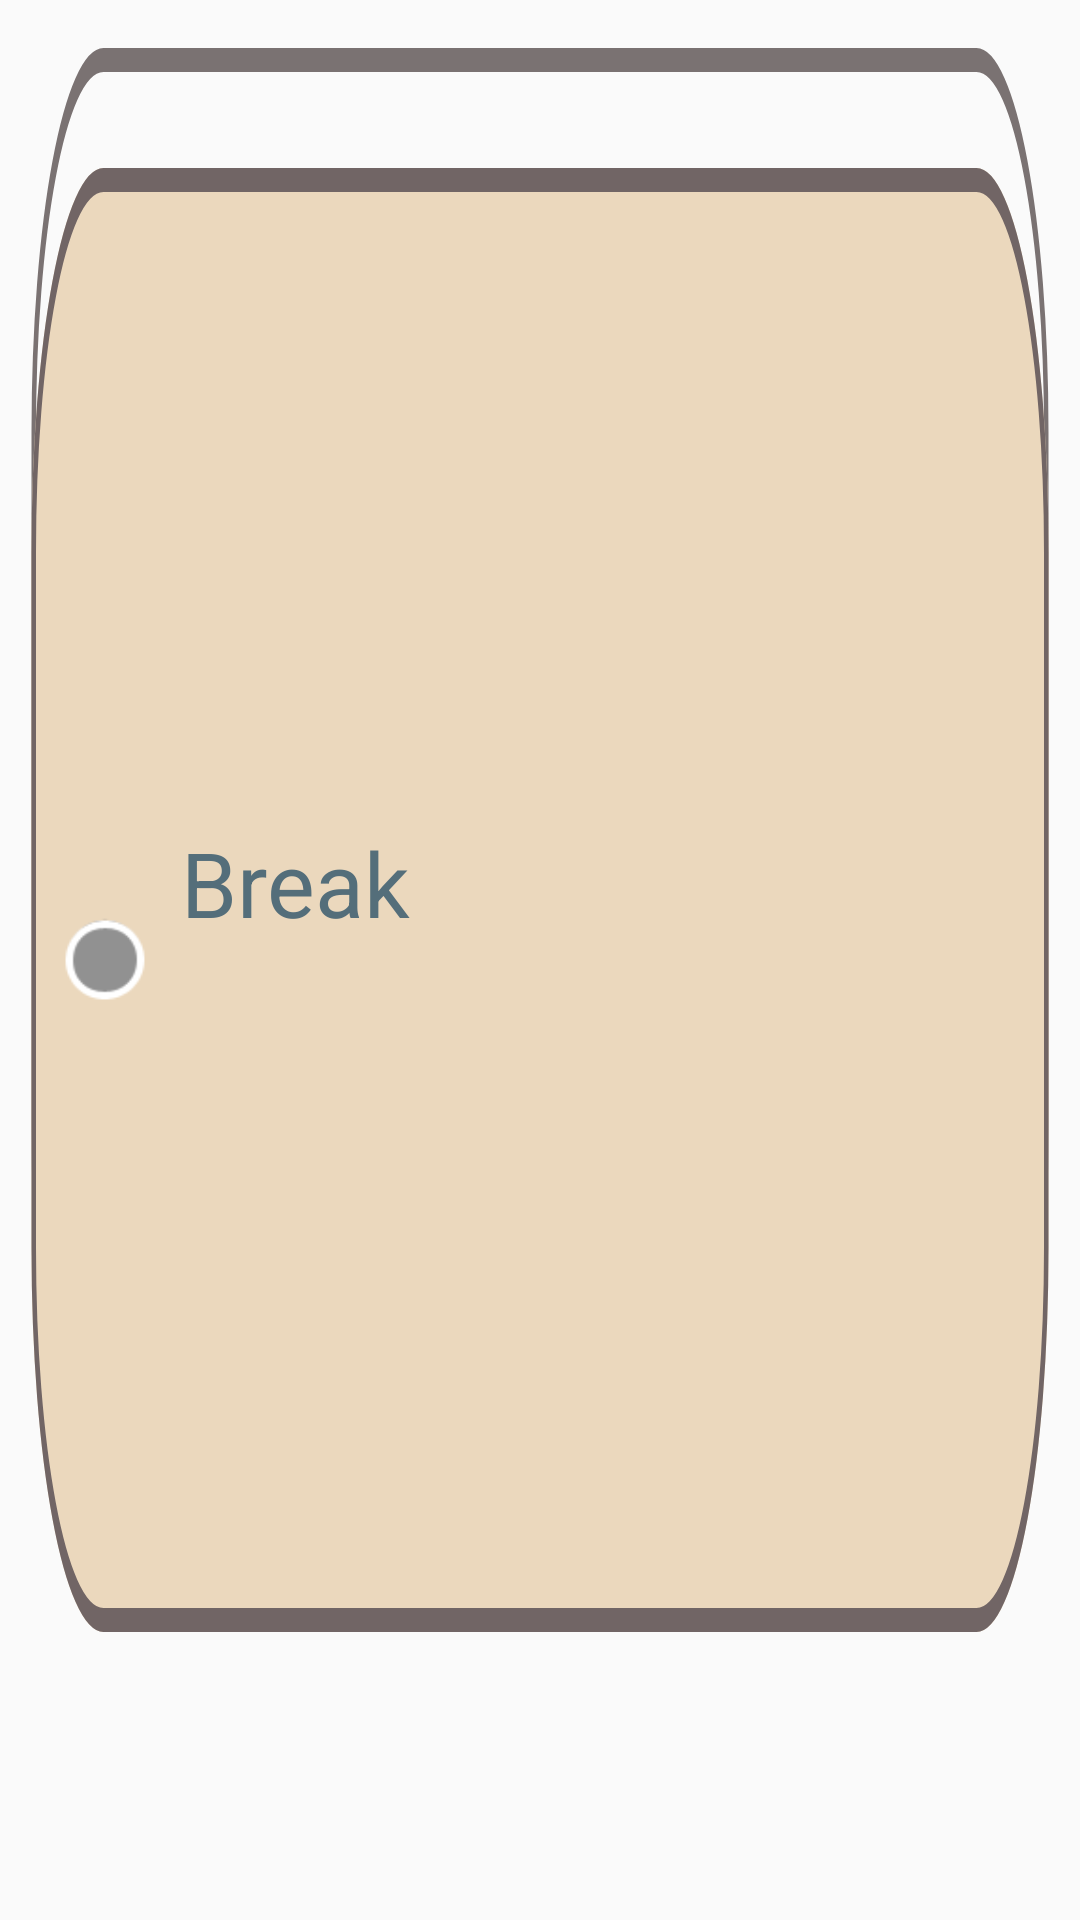

Locate icon controls on the screen. Image size 1080px x 1920px, boxes as bbox=[x1, y1, x2, y2].
presence invisible: bbox=[65, 920, 145, 1000]
